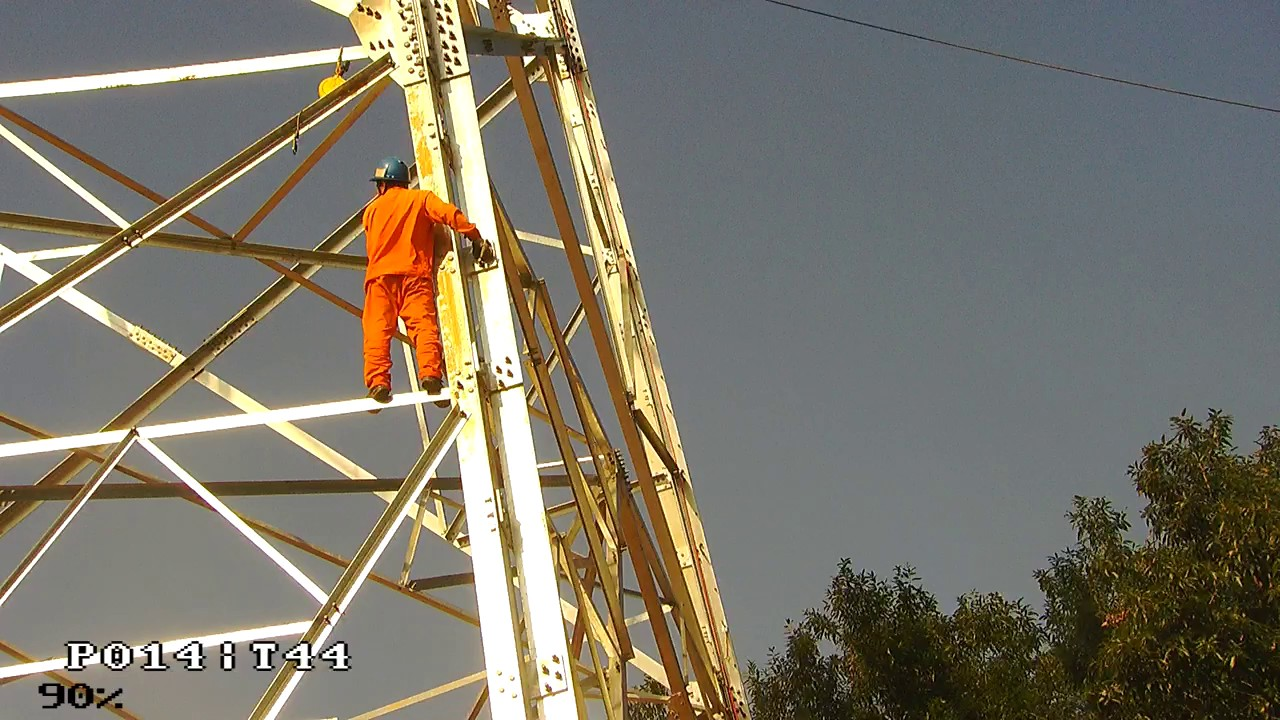hat: (370, 158, 412, 193)
